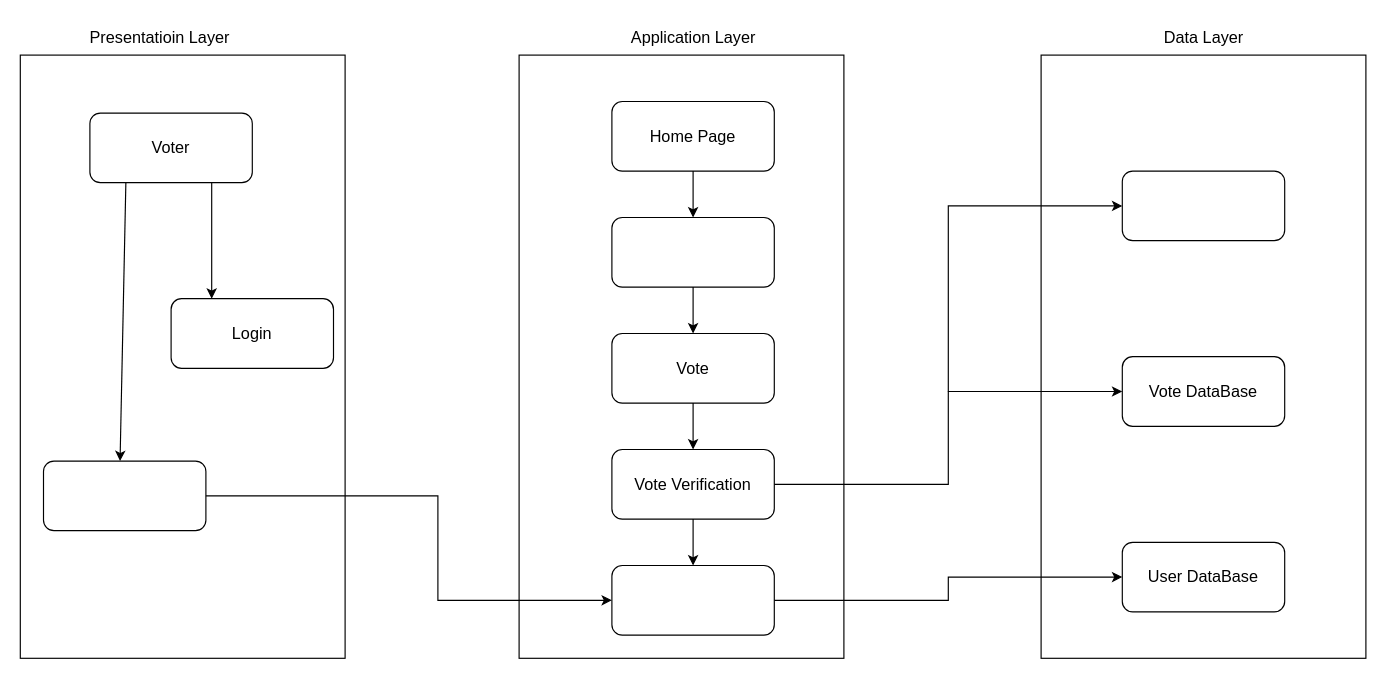
Image size: 1386x679. Some labels were removed from this diagram. Here are the shapes that lost their labels. From the top down, the centre of each, then its label:
At (x=1203, y=205): "Voter Database".
At (x=692, y=251): "Ward Choose".
At (x=124, y=495): "Register".
At (x=692, y=599): "User Verification".
